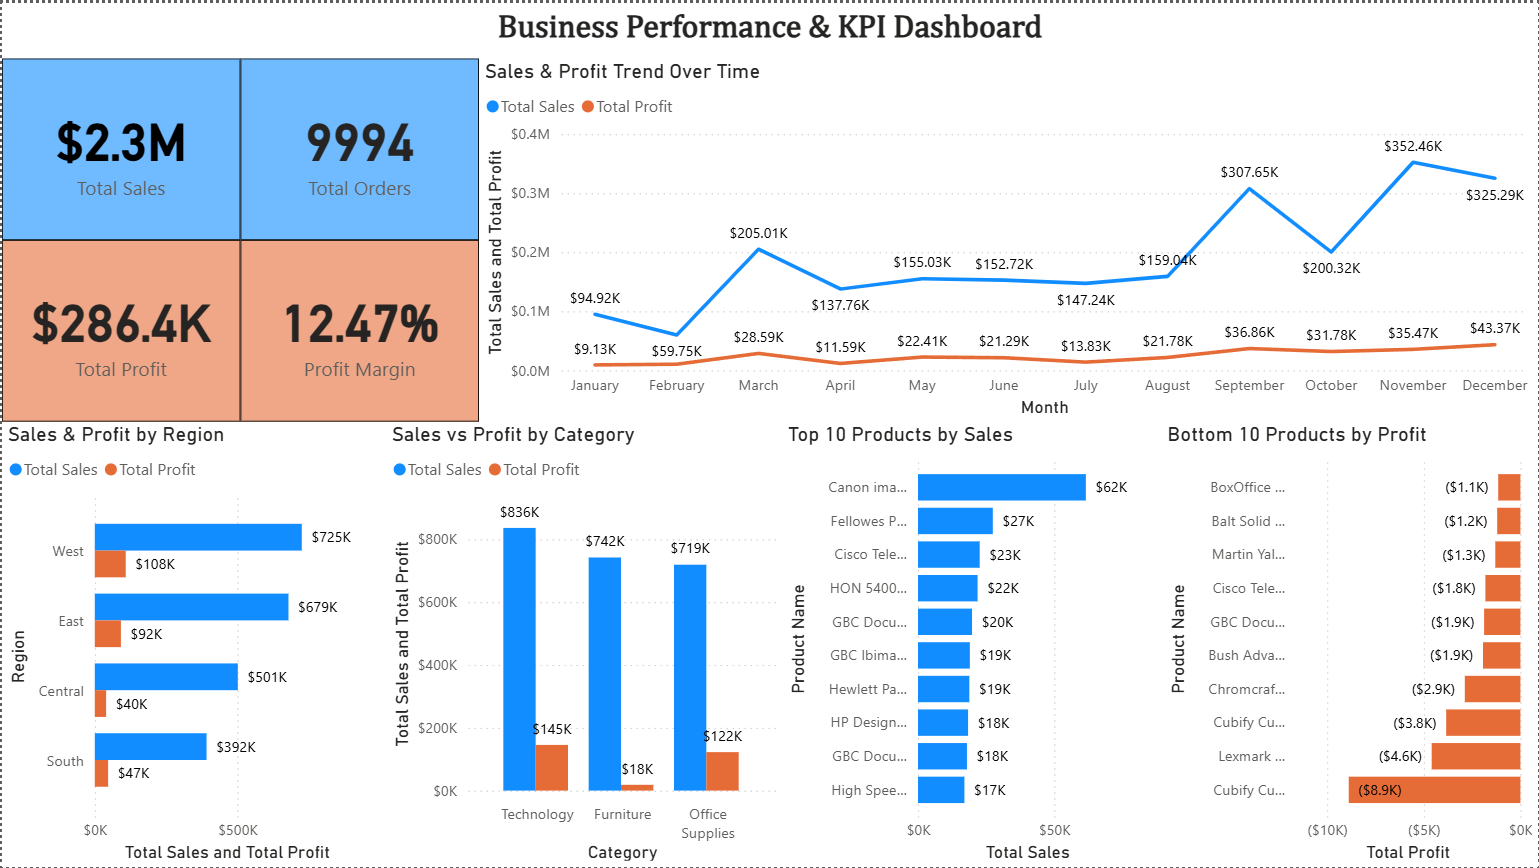

This screenshot's page, from the dashboard's own definition file:
{"tool":"powerbi","page":{"name":"Page 1","canvas":[1280,720],"ordinal":0},"visuals":[{"type":"lineChart","title":"Sales & Profit Trend Over Time","fields":{"Category":["superstore.Order Date.Variation.Date Hierarchy.Month"],"Y":["superstore.Total Sales","superstore.Total Profit"]},"box":[397.5,46.2,882.5,302.5],"z":0},{"type":"clusteredBarChart","title":"Sales & Profit by Region","fields":{"Category":["superstore.Region"],"Y":["superstore.Total Sales","superstore.Total Profit"]},"box":[0,348.8,320,371.2],"z":1000},{"type":"clusteredColumnChart","title":"Sales vs Profit by Category","fields":{"Category":["superstore.Category"],"Y":["superstore.Total Sales","superstore.Total Profit"]},"box":[320,348.8,330,371.2],"z":2000},{"type":"clusteredBarChart","title":"Top 10 Products by Sales","fields":{"Category":["superstore.Product Name"],"Y":["superstore.Total Sales"]},"box":[650,348.8,315,371.2],"z":3000},{"type":"clusteredBarChart","title":"Bottom 10 Products by Profit","fields":{"Category":["superstore.Product Name"],"Y":["superstore.Total Profit"]},"box":[966.2,348.8,313.8,371.2],"z":4000},{"type":"card","fields":{"Values":["superstore.Total Sales"]},"box":[0,46.2,198.8,151.2],"z":5000},{"type":"card","fields":{"Values":["superstore.Total Profit"]},"box":[0,197.5,198.8,151.2],"z":6000},{"type":"card","fields":{"Values":["superstore.Total Orders"]},"box":[198.8,46.2,198.8,151.2],"z":7000},{"type":"card","fields":{"Values":["superstore.Profit Margin"]},"box":[198.8,197.5,198.8,151.2],"z":8000},{"type":"textbox","box":[0,0,1280,46.2],"z":8001}]}

Visuals, with their boxes in screenshot pixels (x1, y1, x2, y2), scaled from the page's 1280x720 canvas onto the 1539x868 screenshot:
"Sales & Profit Trend Over Time" lineChart: (478, 56, 1538, 420)
"Sales & Profit by Region" clusteredBarChart: (0, 420, 385, 867)
"Sales vs Profit by Category" clusteredColumnChart: (385, 420, 782, 867)
"Top 10 Products by Sales" clusteredBarChart: (782, 420, 1160, 867)
"Bottom 10 Products by Profit" clusteredBarChart: (1162, 420, 1538, 867)
card - superstore.Total Sales: (0, 56, 239, 238)
card - superstore.Total Profit: (0, 238, 239, 420)
card - superstore.Total Orders: (239, 56, 478, 238)
card - superstore.Profit Margin: (239, 238, 478, 420)
textbox: (0, 0, 1538, 56)
